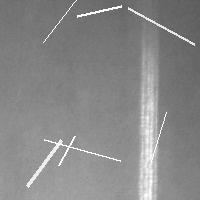scratches: (135, 37, 160, 198), (123, 3, 199, 49), (39, 134, 125, 165), (38, 0, 93, 47), (22, 135, 66, 191), (146, 107, 171, 166), (72, 1, 126, 21), (54, 131, 80, 170)
